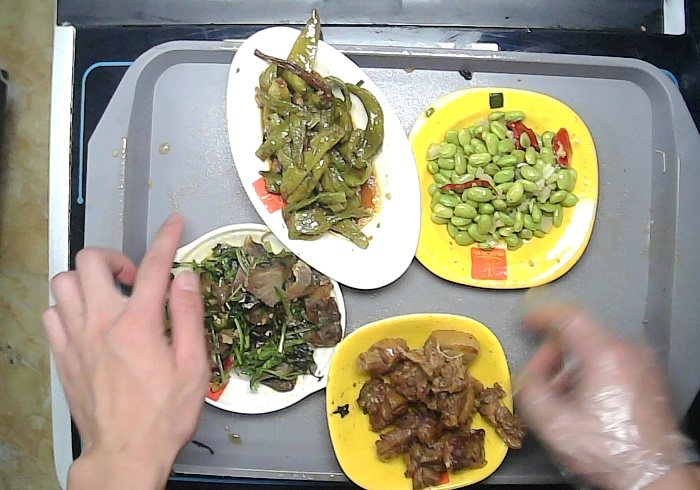SHKJ-Bao_Yu_Pan: (162, 220, 350, 415)
SHKJ-Huang_Se_Cai_Die: (322, 310, 517, 490)
SHKJ-Huang_Se_Si_Fang_Cai_Die: (402, 86, 601, 291)
SHKJ-Yu_Pan: (224, 24, 421, 291)
